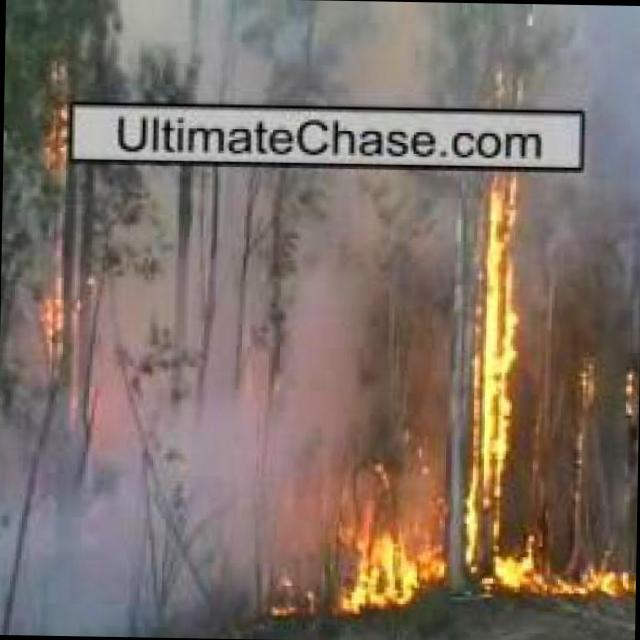Fire: (347, 524, 638, 603), (473, 163, 523, 523), (29, 67, 84, 183), (28, 265, 74, 358), (574, 362, 602, 502), (617, 369, 640, 419)
